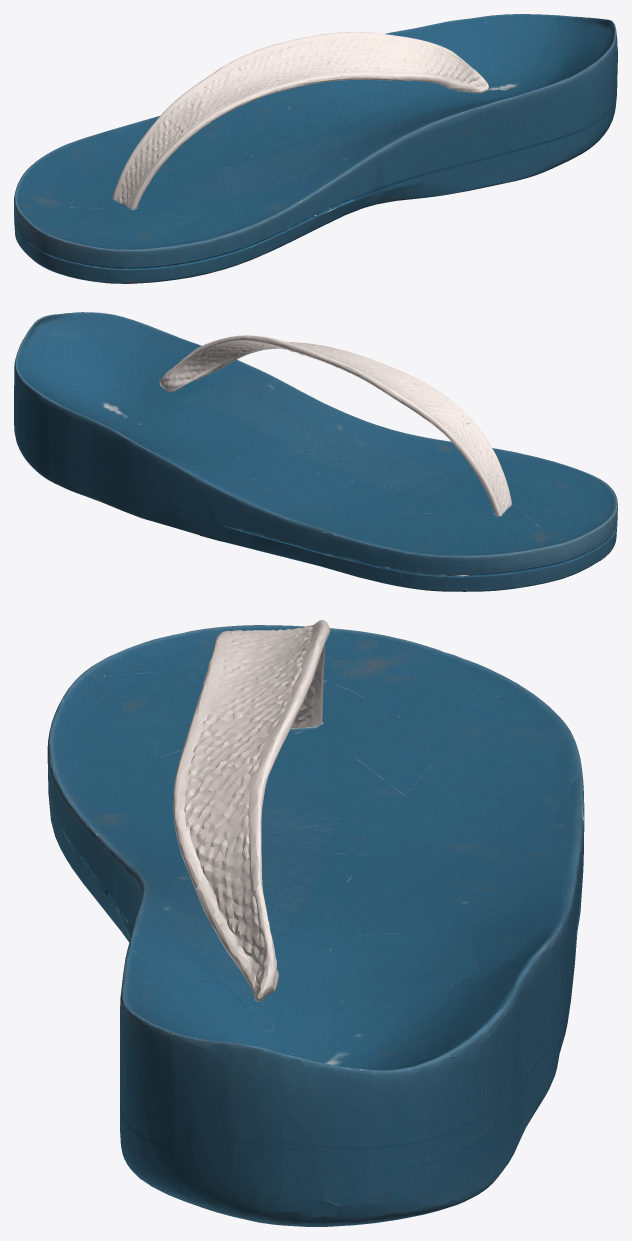
The model's file is ciabatta.glb.
3 views of the same model, one above another, from view 1: azimuth 30°, elevation 25°; view 2: azimuth 150°, elevation 25°; view 3: azimuth 270°, elevation 25° (orthographic). The views are drawn at different scales.
Bounding box in the file's own units: 1.9 × 0.4746 × 0.7754.
1 material, 1 textured.
